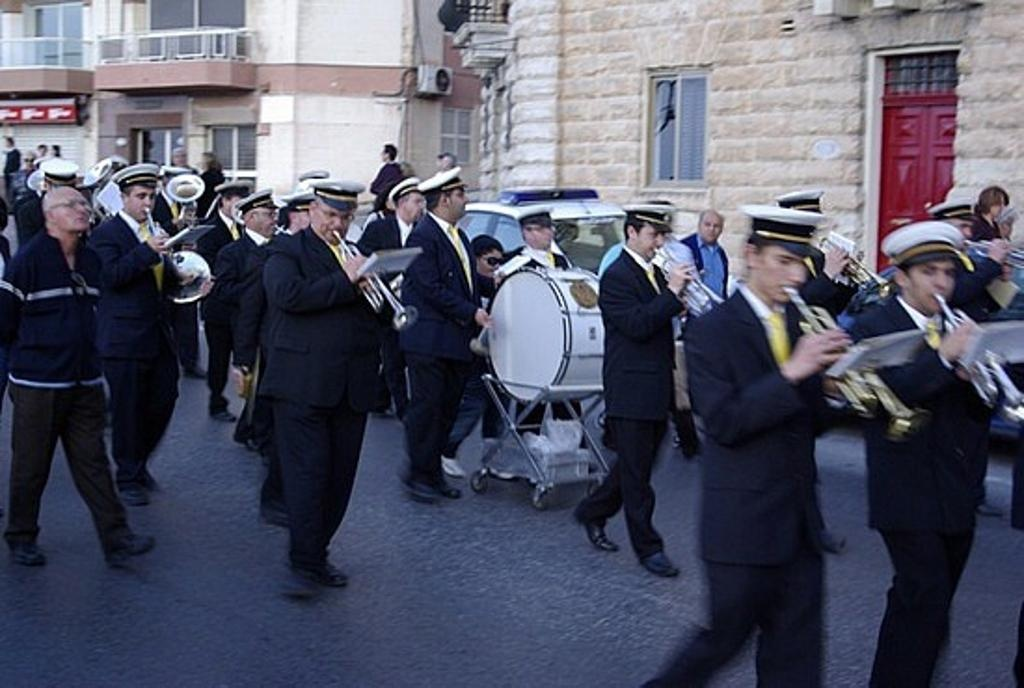human_face: (758, 240, 806, 302), (908, 258, 956, 312), (314, 202, 350, 244), (52, 193, 88, 229), (638, 222, 664, 260), (126, 185, 154, 219), (480, 250, 504, 280), (952, 216, 972, 252), (446, 186, 468, 216), (253, 208, 275, 236), (701, 214, 721, 241), (530, 224, 552, 248), (404, 192, 422, 221), (227, 196, 249, 218), (990, 196, 1006, 216), (22, 154, 34, 166), (174, 154, 186, 164), (438, 158, 448, 168), (380, 148, 386, 160)
